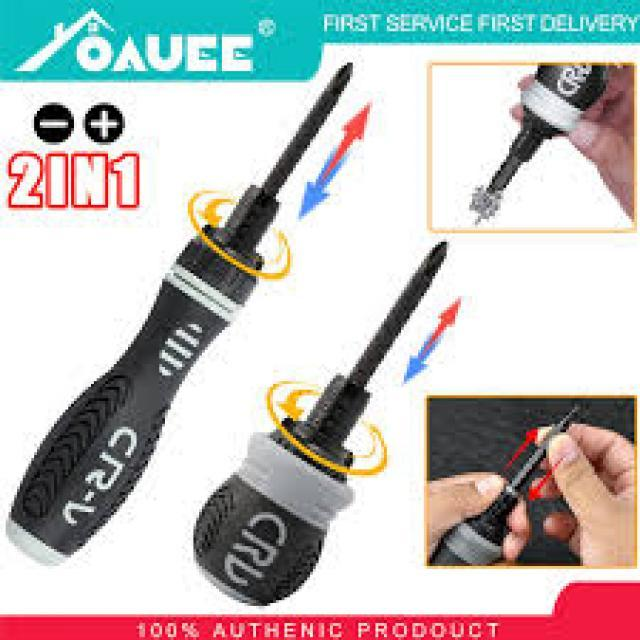screwdriver: (2, 52, 354, 570), (189, 236, 454, 612), (479, 62, 610, 204)
